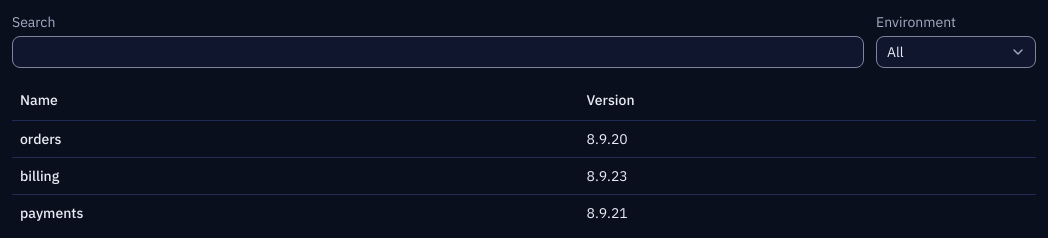
Scenario: DataTable › stops a filter value when new filters remove the filter
Select "Development" in the dropdown labelled "Environment" at (956,52), box [876,36,1036,68]
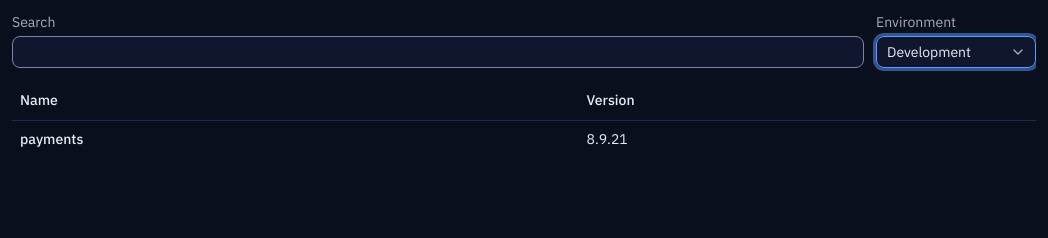
Expected: the links read "payments", in this order, [20,130,83,148]
